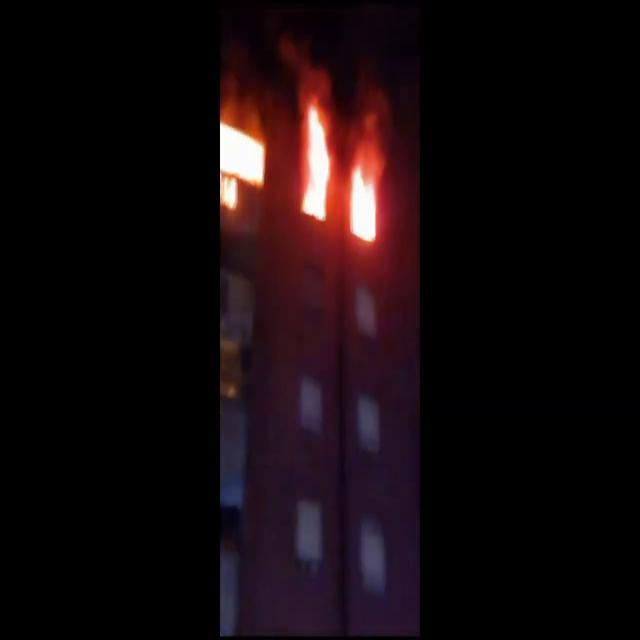Fire: (220, 105, 268, 213), (299, 91, 334, 227), (348, 151, 382, 256)
